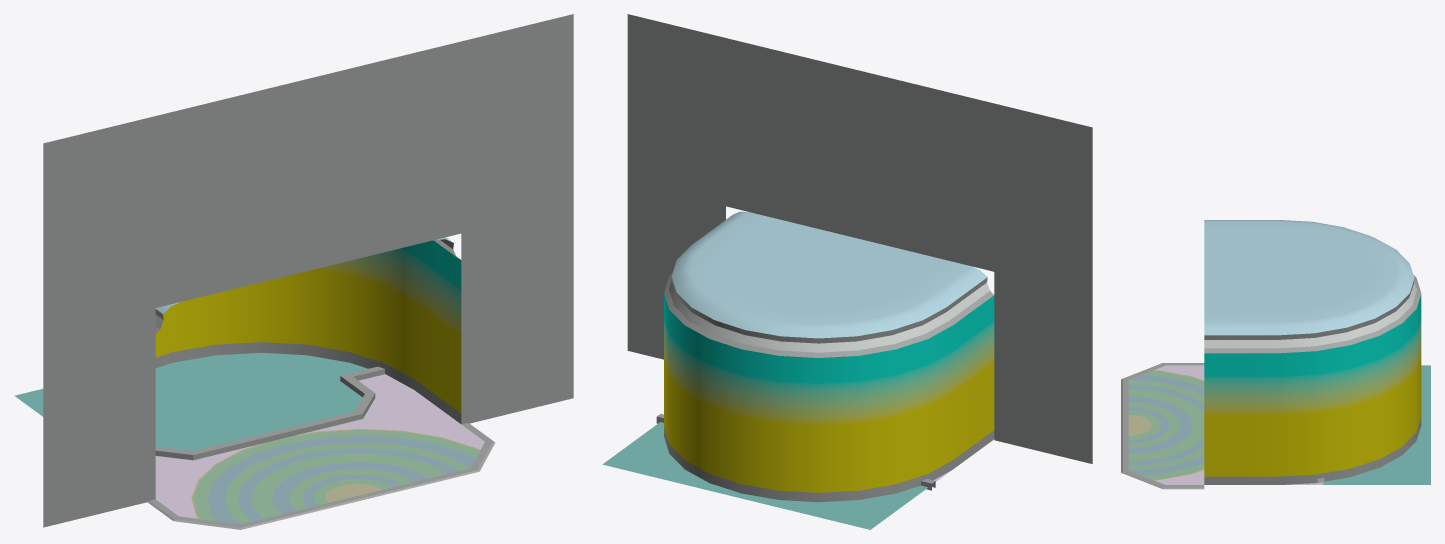
3 renders of one model, left to right at view 1: azimuth 30°, elevation 25°; view 2: azimuth 150°, elevation 25°; view 3: azimuth 270°, elevation 25°, orthographic. The views are drawn at different scales.
Parts seen in each view (by area): view 1: G:\FFXIV-MapTools\exports\u5f1\bg\ex4\04_uvs_u5\fld\u5f1\bgp (×7); view 2: G:\FFXIV-MapTools\exports\u5f1\bg\ex4\04_uvs_u5\fld\u5f1\bgp (×7); view 3: G:\FFXIV-MapTools\exports\u5f1\bg\ex4\04_uvs_u5\fld\u5f1\bgp (×10).
Part boxes in pixels (x1,y1,x2,y2): G:\FFXIV-MapTools\exports\u5f1\bg\ex4\04_uvs_u5\fld\u5f1\bgp (×7): [14, 14, 573, 529]; G:\FFXIV-MapTools\exports\u5f1\bg\ex4\04_uvs_u5\fld\u5f1\bgp (×7): [602, 14, 1092, 529]; G:\FFXIV-MapTools\exports\u5f1\bg\ex4\04_uvs_u5\fld\u5f1\bgp (×10): [1121, 220, 1430, 489].
Bounding box in the file's own units: 26.02 × 18.08 × 16.4.
